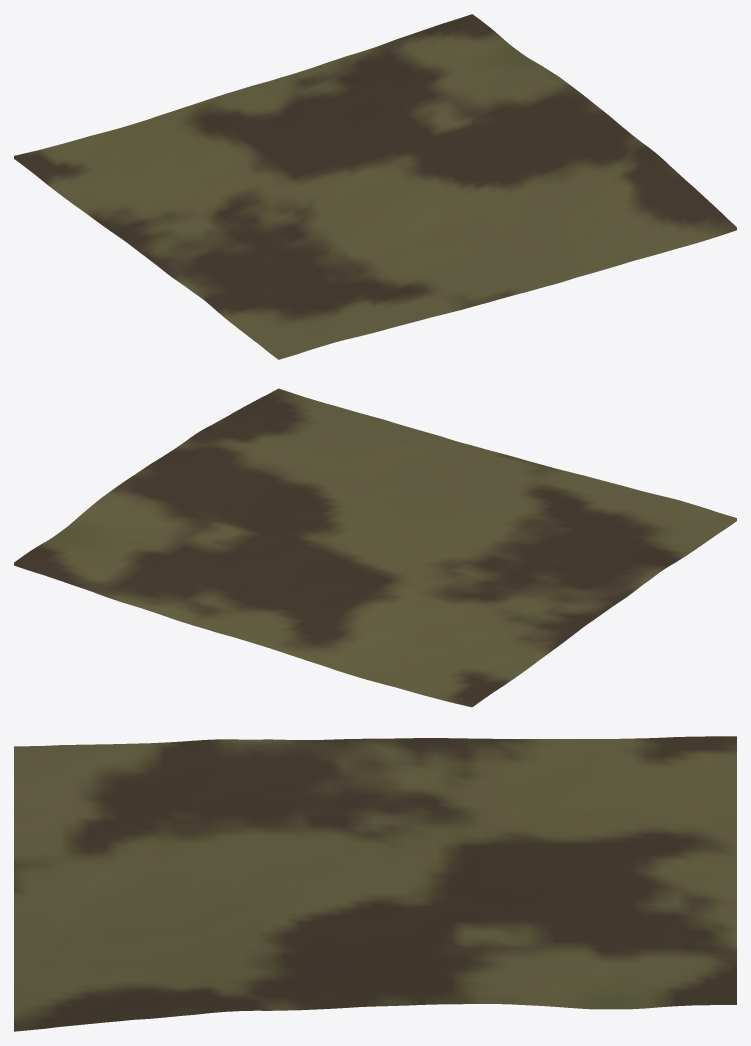
The model's file is land_m_04_07.glb.
3 views of the same model, one above another, from view 1: azimuth 30°, elevation 25°; view 2: azimuth 150°, elevation 25°; view 3: azimuth 270°, elevation 25° (orthographic). The views are drawn at different scales.
Visible parts, largest first — view 1: land_m_04_07; view 2: land_m_04_07; view 3: land_m_04_07.
Part boxes in pixels (box(x1,y1,x2,y2)): land_m_04_07: box(14, 14, 736, 359); land_m_04_07: box(14, 388, 736, 707); land_m_04_07: box(14, 736, 736, 1031).
Bounding box in the file's own units: 960 × 82.24 × 960.
